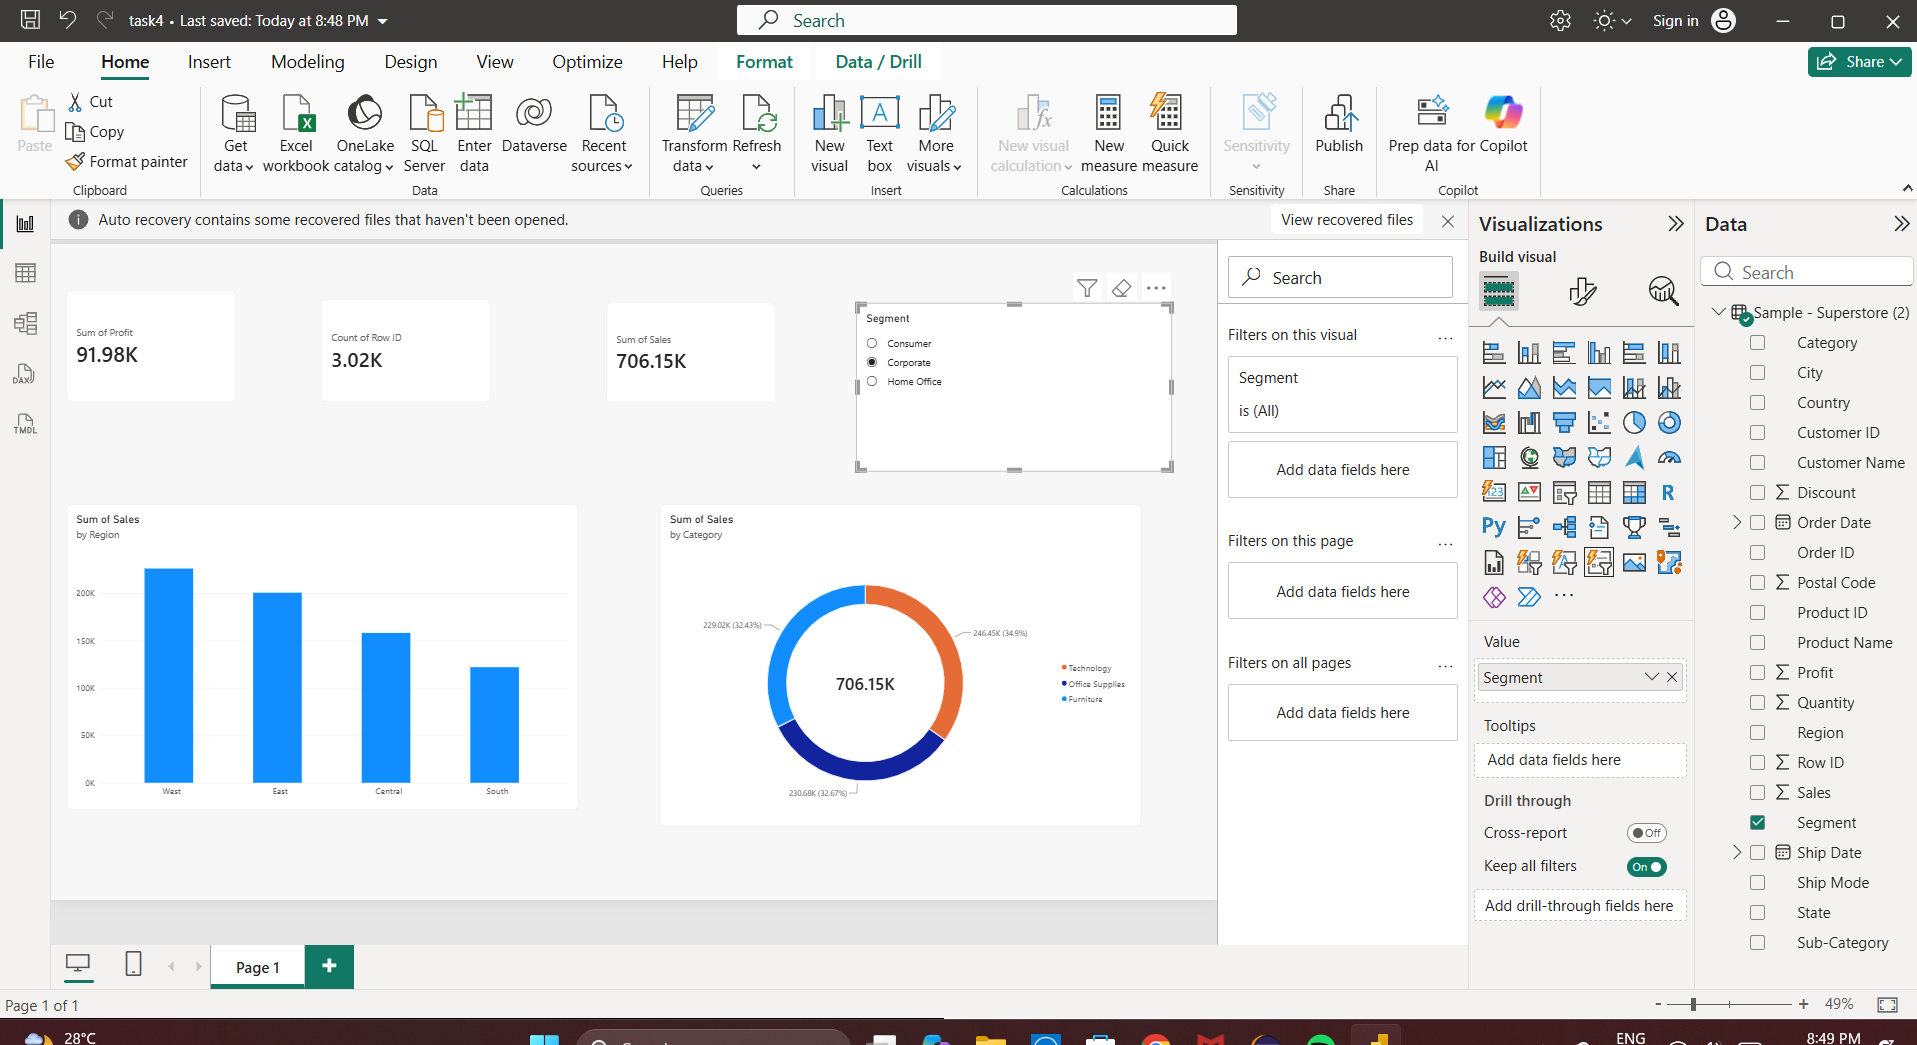

Layout of this report page (visuals, bound fields, positions):
{"tool":"powerbi","page":{"name":"Page 1","canvas":[1920,1080],"ordinal":0},"visuals":[{"type":"cardVisual","fields":{"Data":["CountNonNull(Sample - Superstore (2).Row ID)"]},"box":[444.6,90.6,279.9,170.8],"z":0},{"type":"cardVisual","fields":{"Data":["Sum(Sample - Superstore (2).Sales)"]},"box":[913.9,96.7,279.9,164.7],"z":1},{"type":"cardVisual","fields":{"Data":["Sum(Sample - Superstore (2).Profit)"]},"box":[24.7,76.2,279.9,185.2],"z":2},{"type":"clusteredColumnChart","fields":{"Category":["Sample - Superstore (2).Region"],"Y":["Sum(Sample - Superstore (2).Sales)"]},"box":[24.7,428.1,843.9,504.3],"z":3},{"type":"donutChart","fields":{"Category":["Sample - Superstore (2).Category"],"Y":["Sum(Sample - Superstore (2).Sales)"]},"box":[1002.4,428.1,792.5,531],"z":4},{"type":"listSlicer","fields":{"Values":["Sample - Superstore (2).Segment"]},"box":[1325.6,96.7,520.8,277.9],"z":5}]}

Visuals, with their boxes on the page's 1920x1080 design canvas (x1, y1, x2, y2). These are canvas units, not pixel positions in the 1917x1045 screenshot, which may show the page scaled, cropped or inside an application window:
cardVisual - CountNonNull(Sample - Superstore (2).Row ID): (x1=445, y1=91, x2=724, y2=261)
cardVisual - Sum(Sample - Superstore (2).Sales): (x1=914, y1=97, x2=1194, y2=261)
cardVisual - Sum(Sample - Superstore (2).Profit): (x1=25, y1=76, x2=305, y2=261)
clusteredColumnChart - Sample - Superstore (2).Region x Sum(Sample - Superstore (2).Sales): (x1=25, y1=428, x2=869, y2=932)
donutChart - Sample - Superstore (2).Category x Sum(Sample - Superstore (2).Sales): (x1=1002, y1=428, x2=1795, y2=959)
listSlicer - Sample - Superstore (2).Segment: (x1=1326, y1=97, x2=1846, y2=375)
